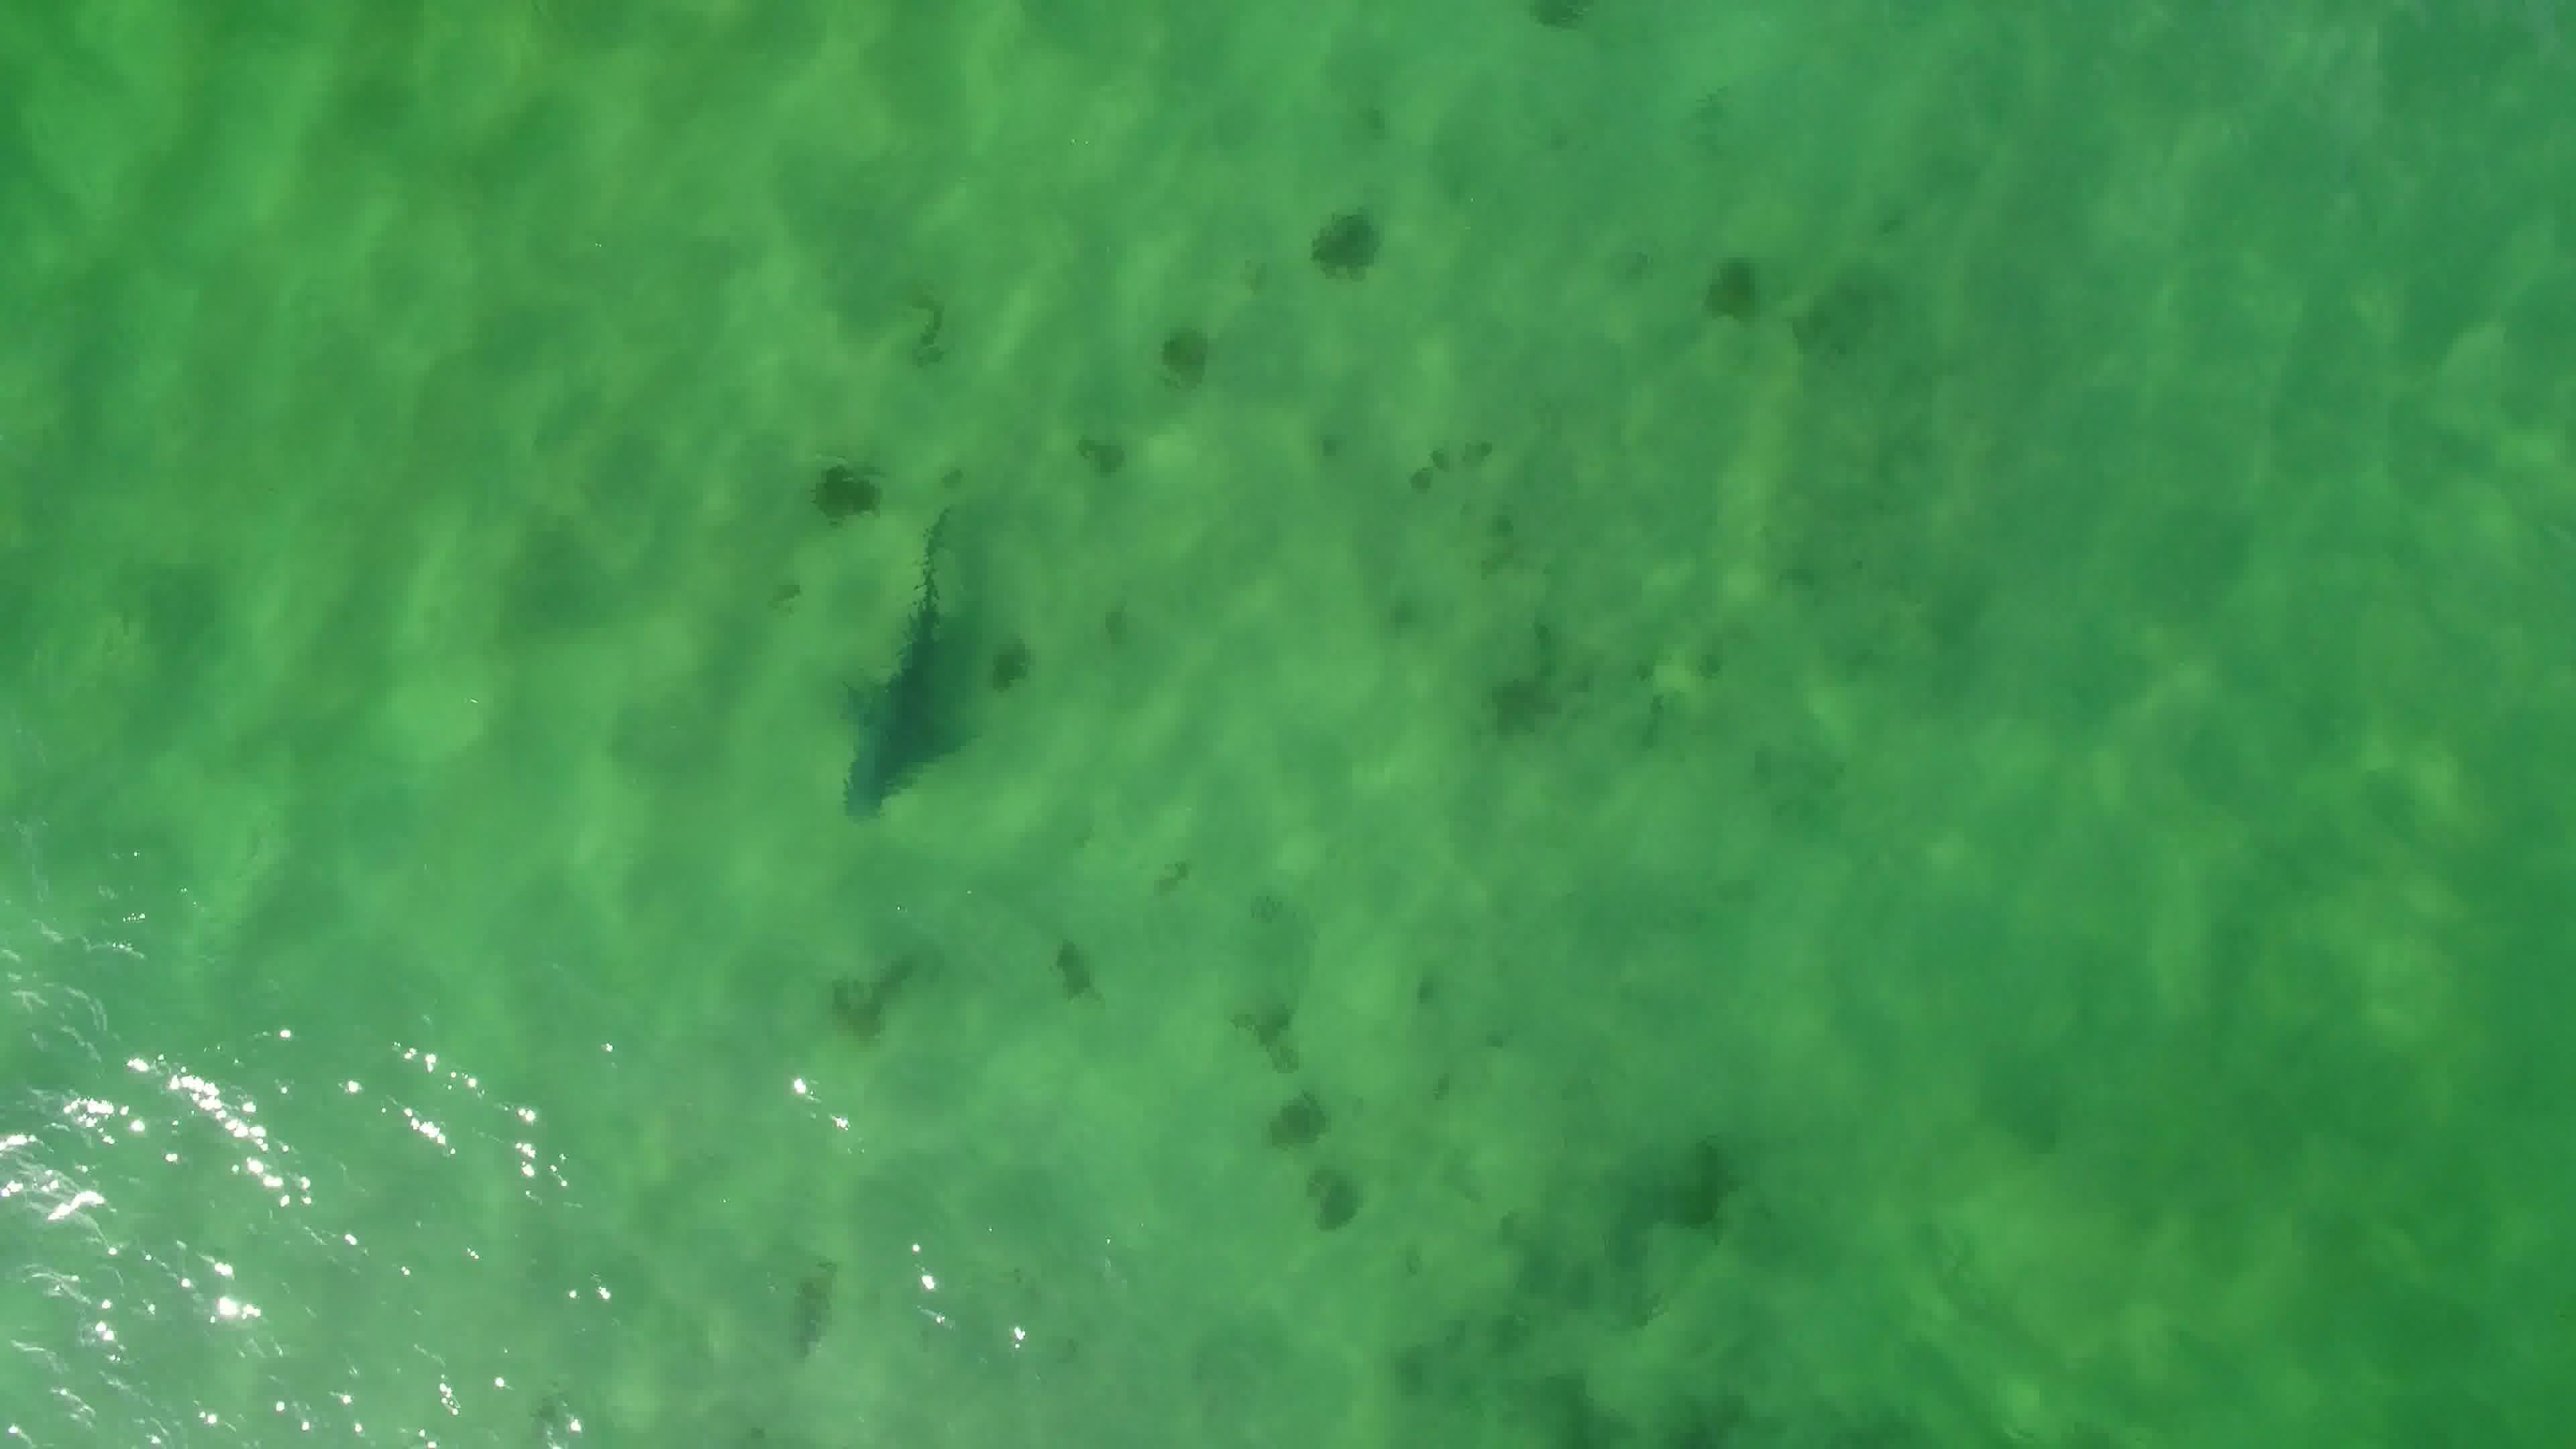shark: (821, 492, 982, 833)
